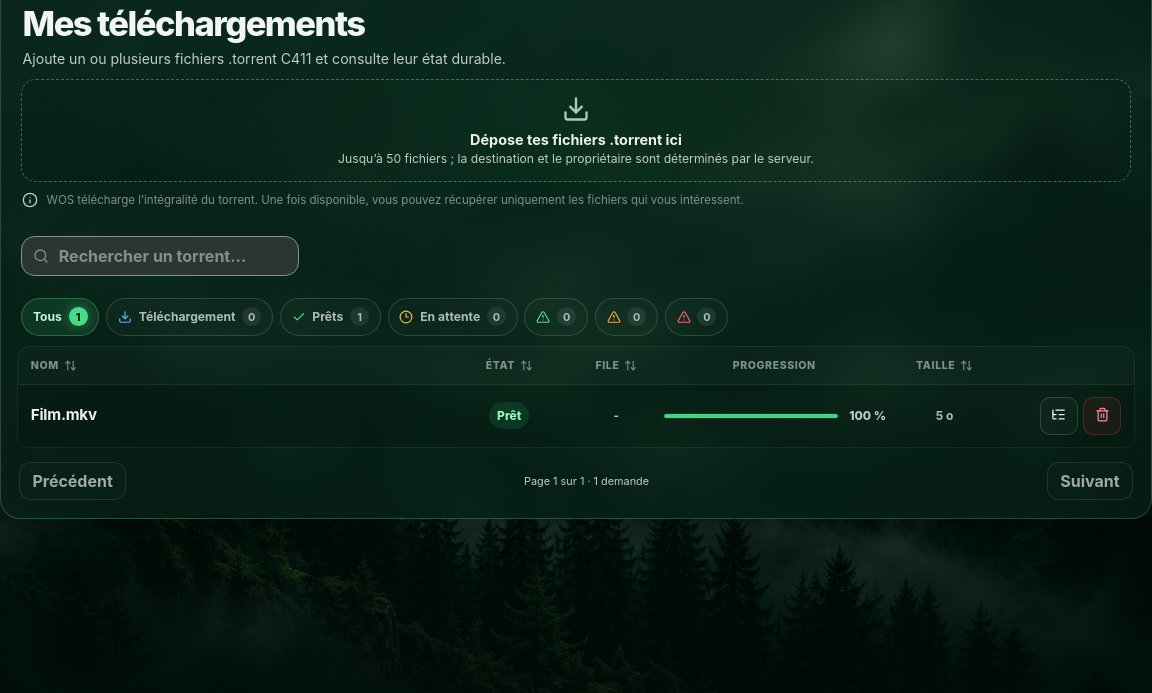
Scenario: UserDownloadsPage › pagine un manifeste multi-fichiers avec le même snapshot jusqu’à la dernière page
Click the button named "Afficher les détails de Film.mkv" at point(1059, 416), box top-left (1040, 396), bottom-right (1078, 434)
(page scrolled)
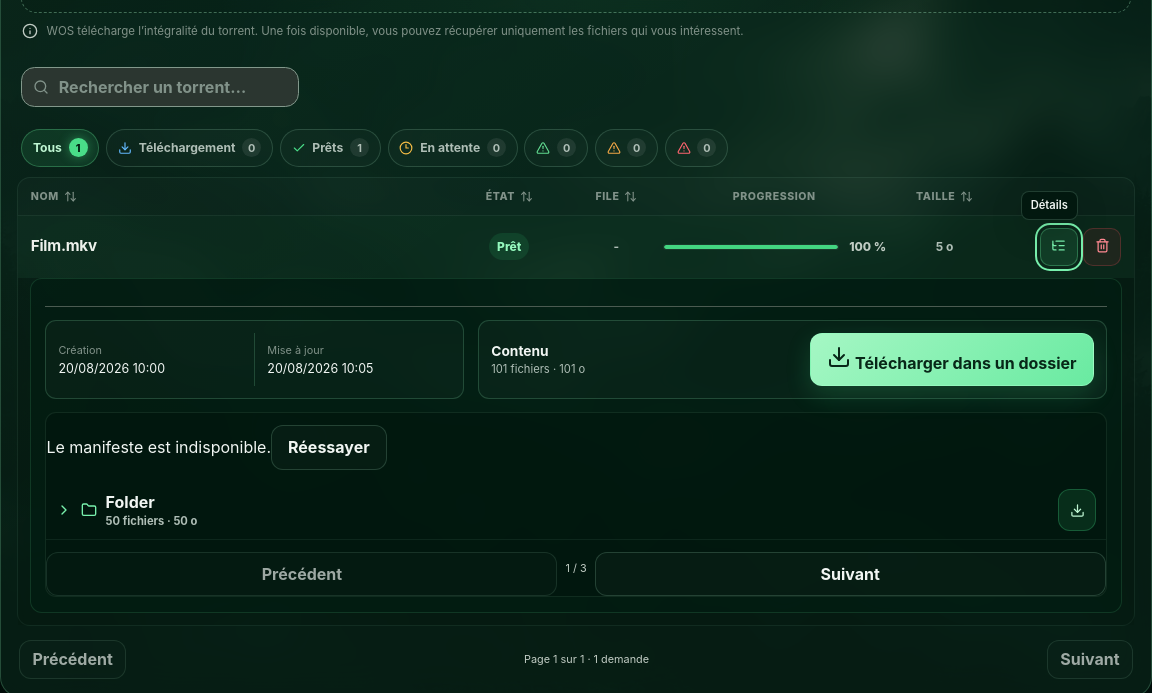
Click the button with aria-label "Détails — Folder" at point(130, 502), box top-left (56, 489), bottom-right (1047, 531)
(page scrolled)
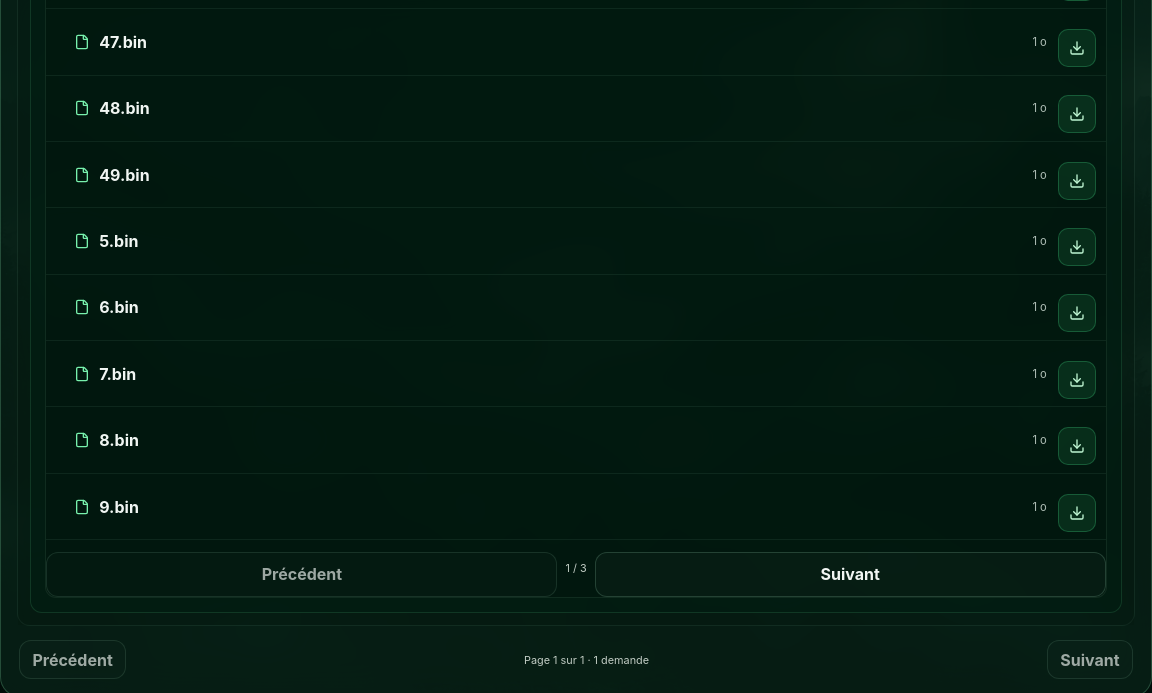
Click the 1st button "Suivant" at point(850, 574), box top-left (595, 552), bottom-right (1106, 597)
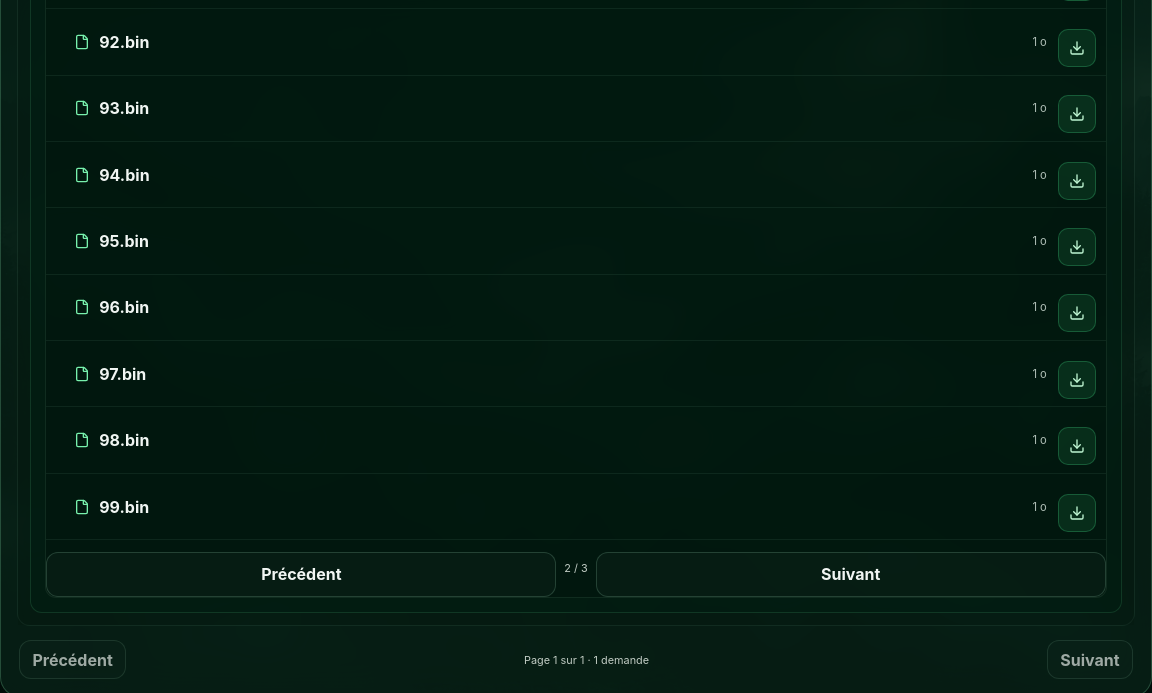
Now the text "2 / 3" is shown, box top-left (564, 561), bottom-right (588, 575)
Click the 1st button "Suivant" at point(851, 574), box top-left (596, 552), bottom-right (1106, 597)
(page scrolled)
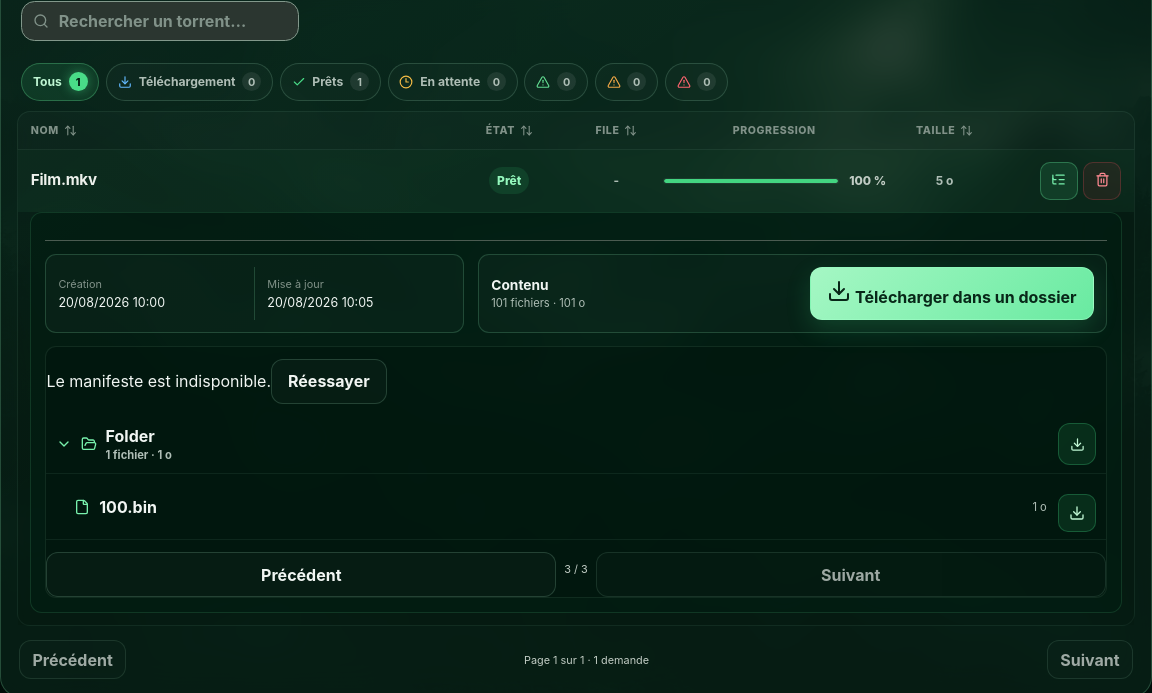
Now the text "100.bin" is shown, box top-left (99, 497), bottom-right (157, 517)
Now the text "3 / 3" is shown, box top-left (564, 562), bottom-right (588, 576)
Now the button "Suivant" below "101 fichiers · 101 o" is disabled, box top-left (596, 552), bottom-right (1106, 597)
Click the button "Précédent" below "100.bin" at point(301, 574), box top-left (46, 552), bottom-right (556, 597)
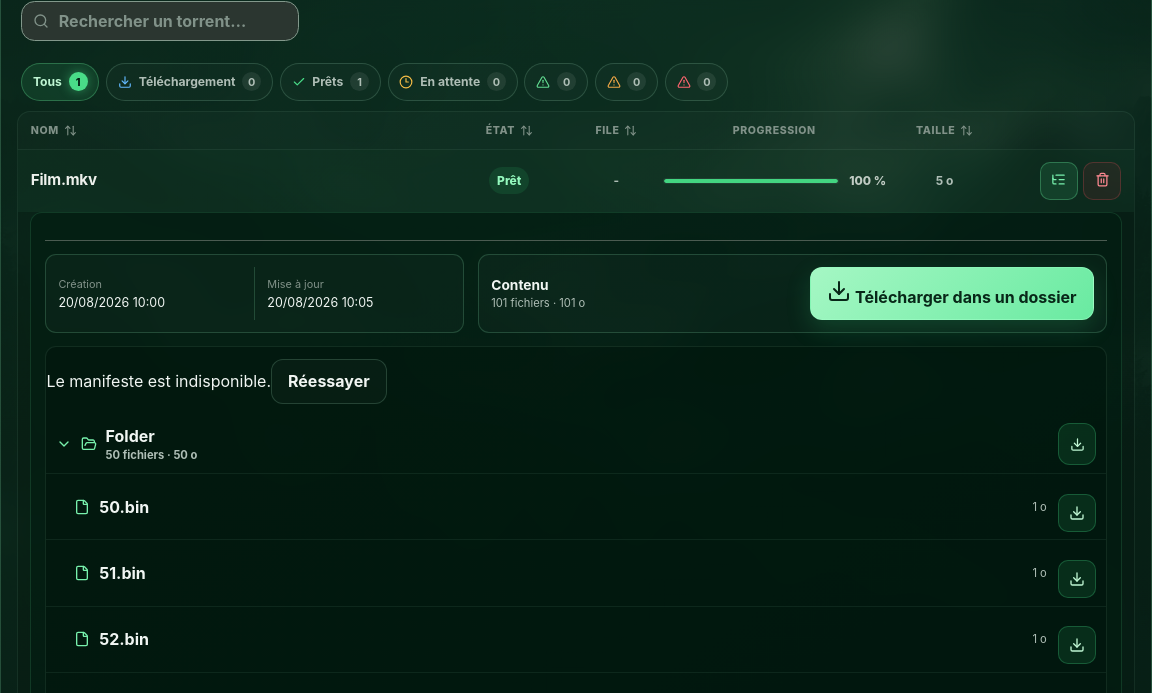
Now the text "50.bin" is shown, box top-left (99, 497), bottom-right (149, 517)
